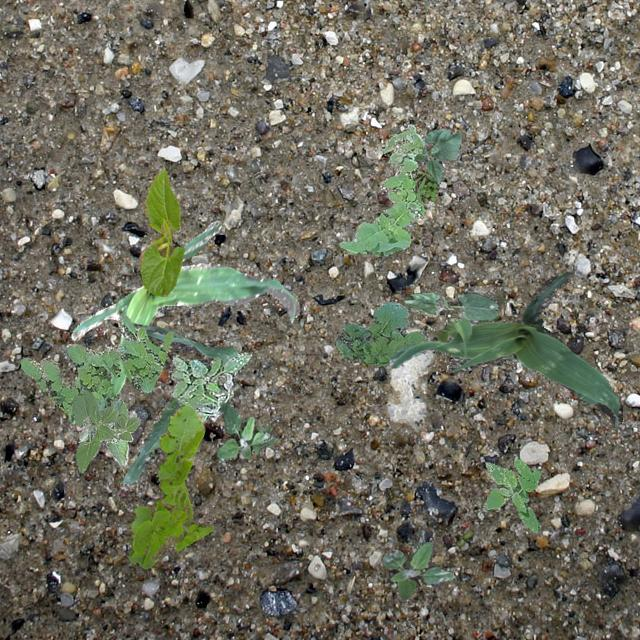crop: (70, 220, 298, 440), (386, 271, 622, 428), (118, 323, 236, 489), (70, 384, 140, 472), (138, 166, 184, 296), (402, 290, 498, 320), (412, 126, 460, 182)
weed: (19, 313, 172, 422), (128, 402, 212, 568), (338, 122, 423, 255), (334, 300, 428, 364), (170, 352, 250, 421), (381, 540, 454, 600), (482, 458, 540, 532), (216, 402, 276, 459), (412, 168, 437, 202)
